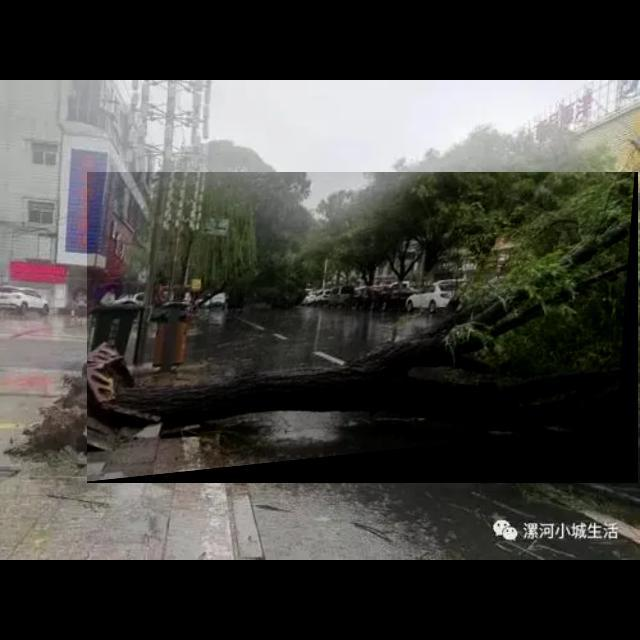fallen_tree: (87, 172, 639, 484)
